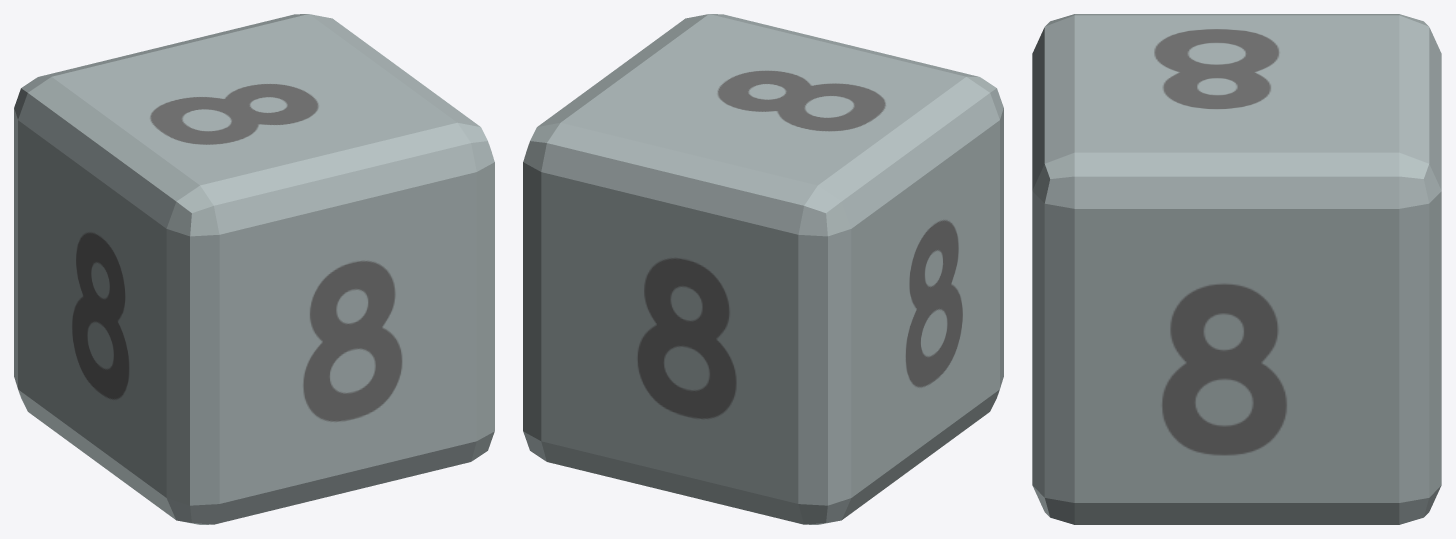
File: cubeEight.glb
The picture shows the model from 3 angles, left to right: view 1: azimuth 30°, elevation 25°; view 2: azimuth 150°, elevation 25°; view 3: azimuth 270°, elevation 25°; orthographic projection. The views are drawn at different scales.
Visible parts, largest first — view 1: Cube; view 2: Cube; view 3: Cube.
Boxes of the visible parts, <box> form: Cube: <box>14,14,494,524</box>; Cube: <box>523,14,1003,524</box>; Cube: <box>1032,14,1441,524</box>.
Size of the model in its own units: 2 by 2 by 2.
Materials: 1 (1 with a texture image).
